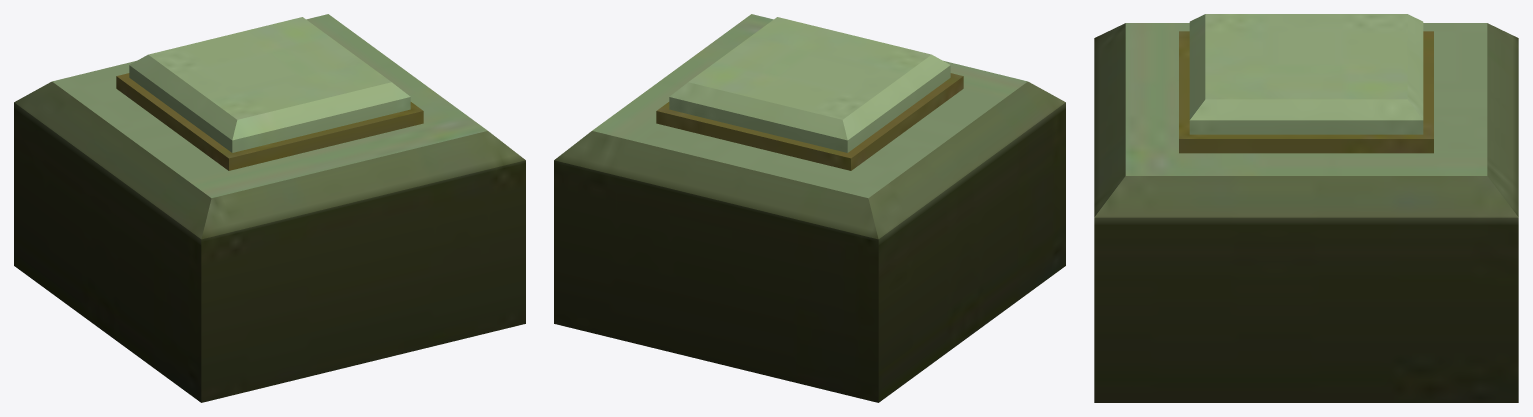
Rendered from assembling-machine-3.glb.
3 views of the same model, side by side, from view 1: azimuth 30°, elevation 25°; view 2: azimuth 150°, elevation 25°; view 3: azimuth 270°, elevation 25° (orthographic). The views are drawn at different scales.
Visible parts, largest first — view 1: assembling-machine-3; view 2: assembling-machine-3; view 3: assembling-machine-3.
Boxes of the visible parts, x1,y1,x2,y2 form: assembling-machine-3: (14, 14, 525, 402); assembling-machine-3: (554, 14, 1065, 402); assembling-machine-3: (1094, 14, 1518, 402).
Bounding box in the file's own units: 0.27 × 0.18 × 0.27.
Materials: 1 (1 with a texture image).
